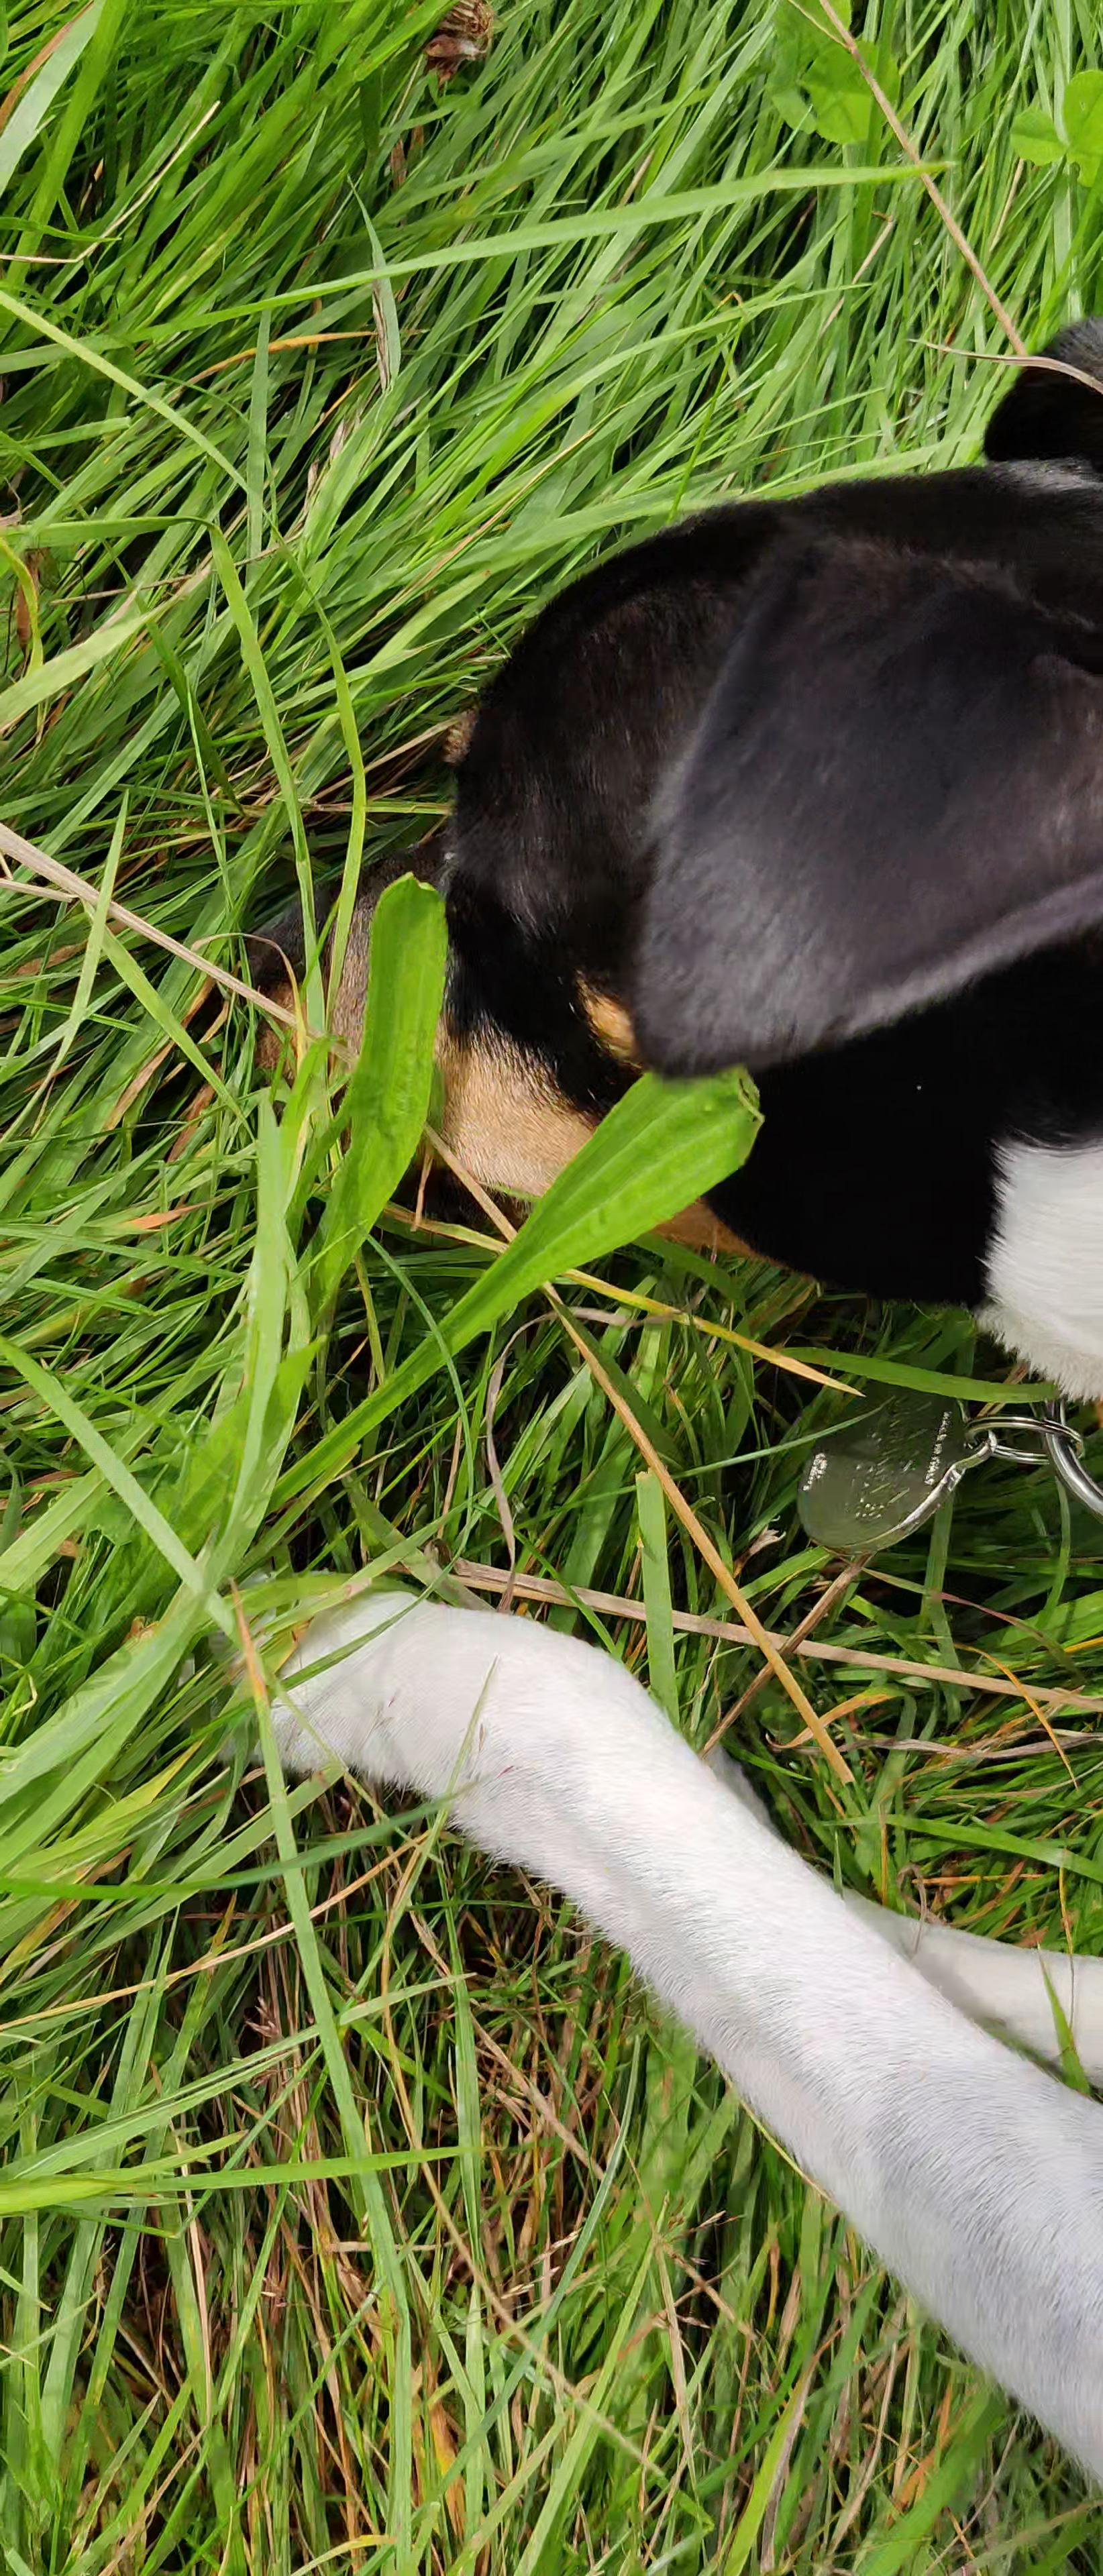Dog: (169, 263, 1103, 2517)
